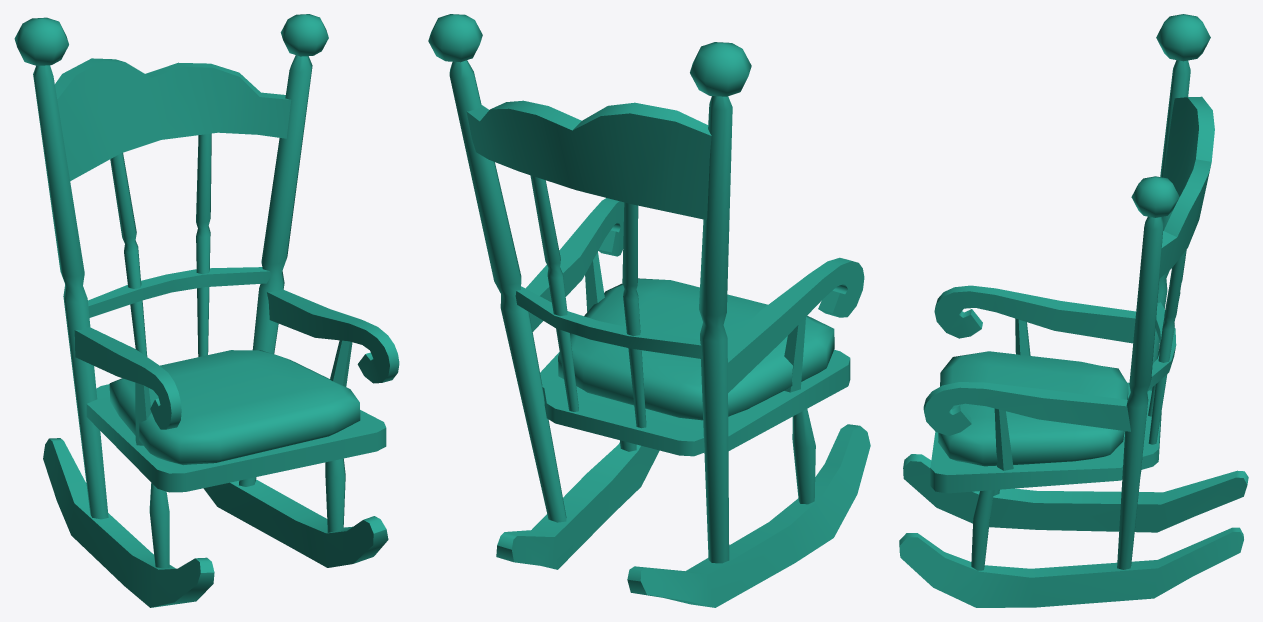
File: RockingChair.FBX
3 views of the same model, side by side, from view 1: azimuth 30°, elevation 25°; view 2: azimuth 150°, elevation 25°; view 3: azimuth 270°, elevation 25° (orthographic). The views are drawn at different scales.
Parts seen in each view (by area): view 1: RockingChair; view 2: RockingChair; view 3: RockingChair.
Boxes of the visible parts, x1,y1,x2,y2 form: RockingChair: (14,14,399,607); RockingChair: (428,14,870,607); RockingChair: (899,14,1248,607).
Size of the model in its own units: 103 by 172 by 109.
